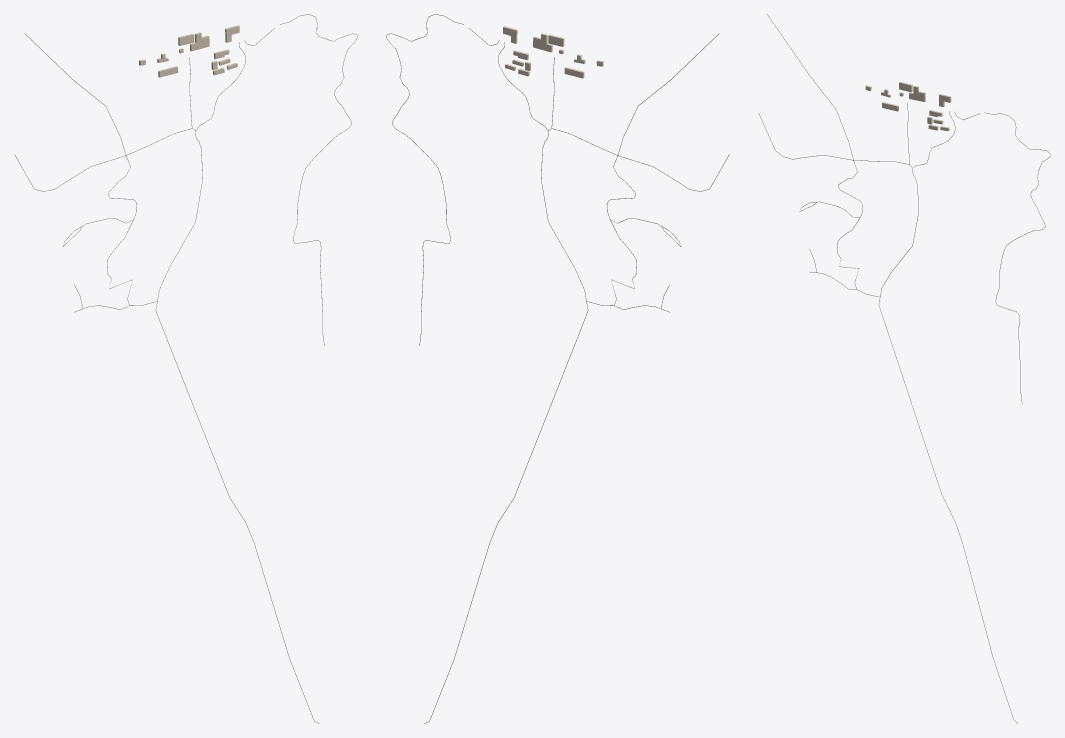
The model's file is historic-palestine-08_03_3498_2975.glb.
The picture shows the model from 3 angles, left to right: view 1: azimuth 30°, elevation 25°; view 2: azimuth 150°, elevation 25°; view 3: azimuth 330°, elevation 25°; orthographic projection. The views are drawn at different scales.
Parts seen in each view (by area): view 1: Road .001; view 2: Road .001; view 3: Road .001.
Part boxes in pixels (x1,y1,x2,y2): Road .001: (155,57,319,723); Road .001: (424,57,588,723); Road .001: (878,103,1017,723).
Bounding box in the file's own units: 1134 × 2407 × 8.7.
